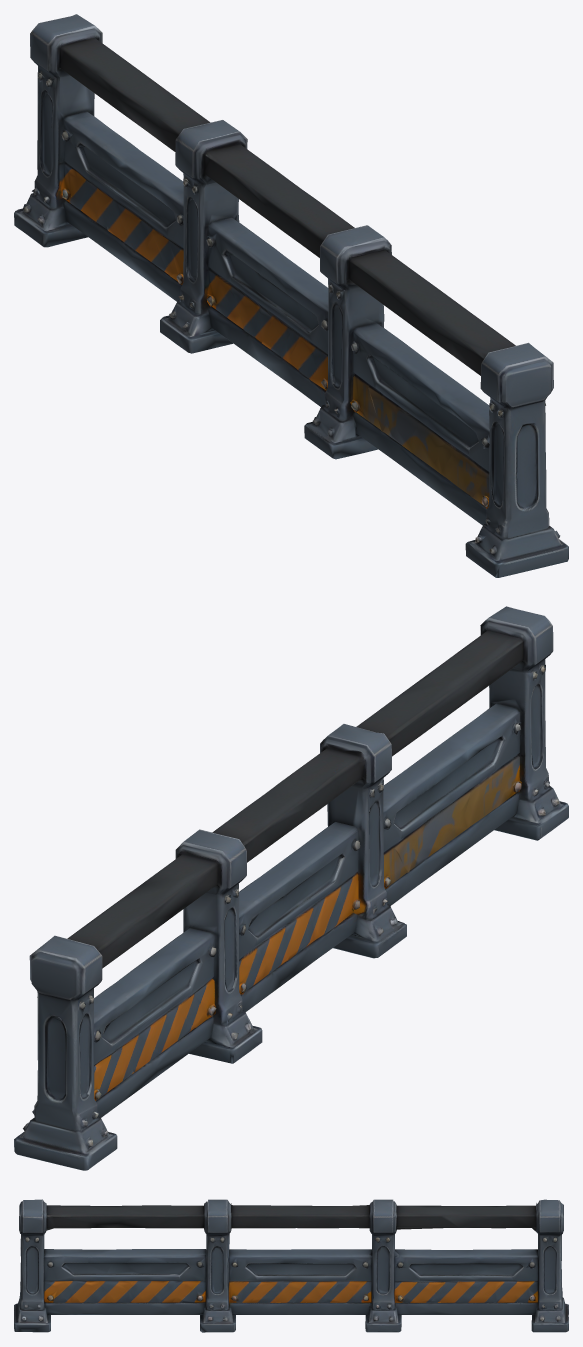
Rendered from prop_rail.glb.
3 renders of one model, top to bottom at view 1: azimuth 30°, elevation 25°; view 2: azimuth 150°, elevation 25°; view 3: azimuth 270°, elevation 25°, orthographic. The views are drawn at different scales.
Visible parts, largest first — view 1: tripo_node_1ea296d8-0dbb-4775-8766-d8e39c7651a3; view 2: tripo_node_1ea296d8-0dbb-4775-8766-d8e39c7651a3; view 3: tripo_node_1ea296d8-0dbb-4775-8766-d8e39c7651a3.
Part boxes in pixels (x1,y1,x2,y2): tripo_node_1ea296d8-0dbb-4775-8766-d8e39c7651a3: (14, 14, 568, 577); tripo_node_1ea296d8-0dbb-4775-8766-d8e39c7651a3: (14, 606, 568, 1170); tripo_node_1ea296d8-0dbb-4775-8766-d8e39c7651a3: (14, 1199, 568, 1332).
Bounding box in the file's own units: 0.0877 × 0.2286 × 0.9792.
1 material, 1 textured.
